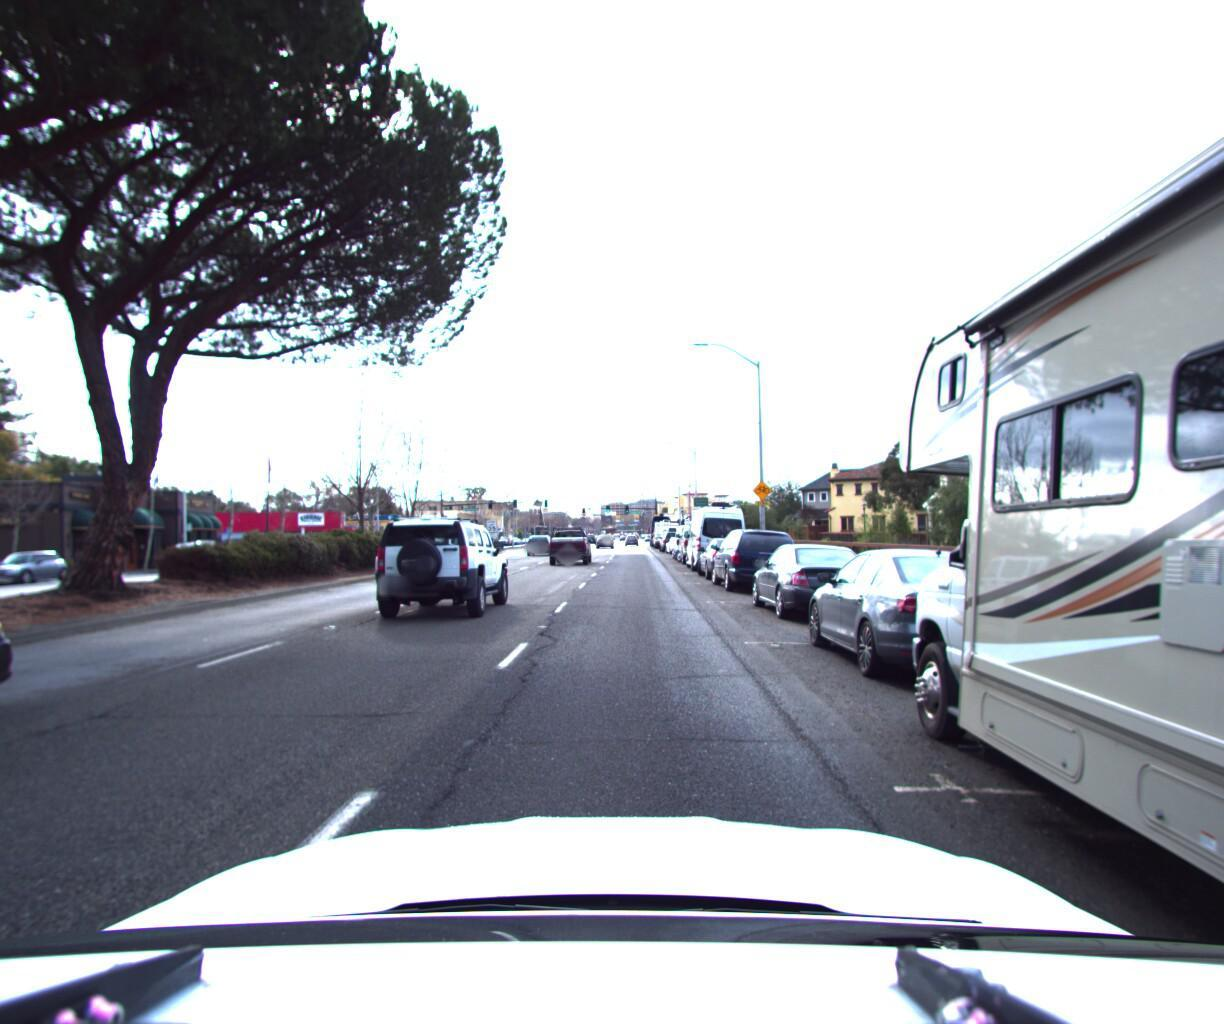car: (801, 538, 1087, 701), (366, 513, 516, 623), (0, 530, 41, 913), (746, 539, 888, 627), (712, 527, 806, 596), (688, 500, 754, 575), (699, 535, 768, 583), (0, 551, 78, 590), (681, 517, 729, 566), (550, 523, 597, 566), (595, 534, 614, 550)
other_vehicle: (657, 518, 684, 550)
